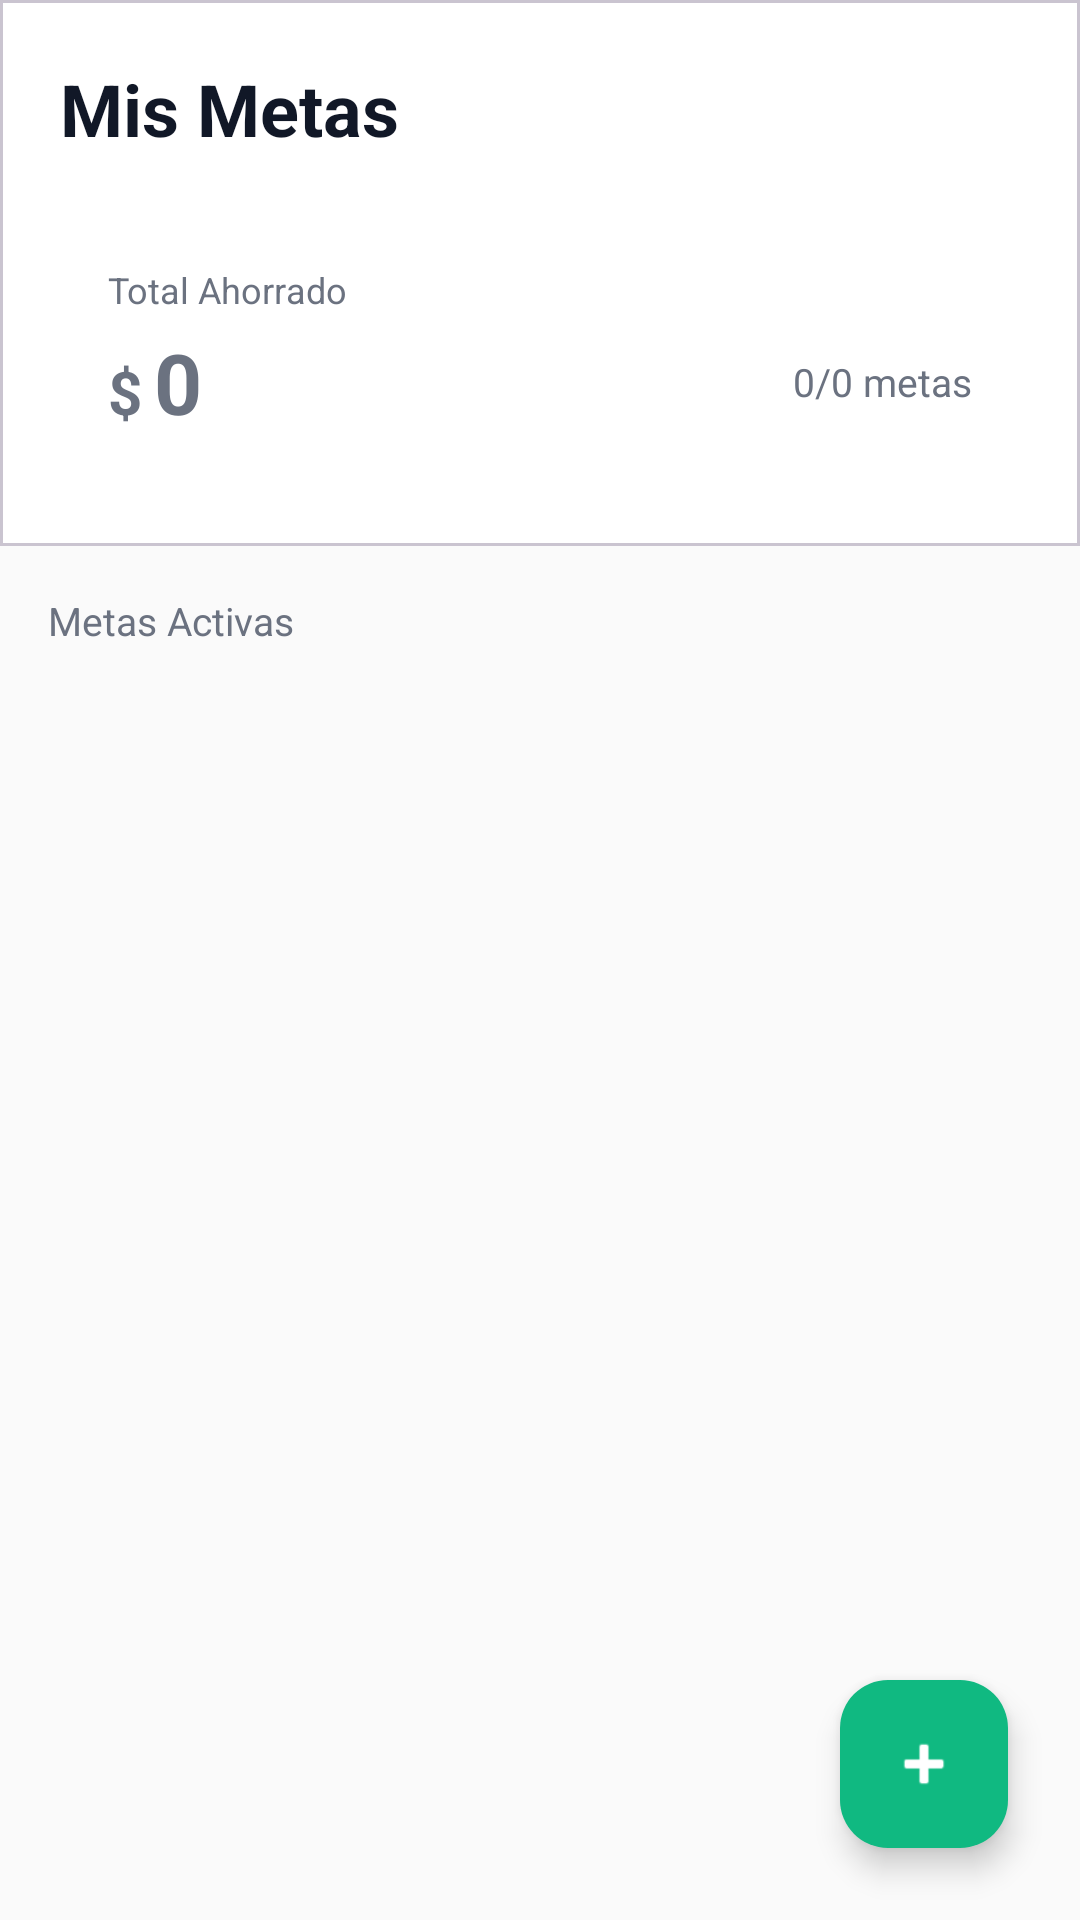

Icon click points for this 1080x1920 phone screenshot, format (x,y):
Agregar meta: (924,1764)
